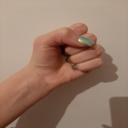Fist: (30, 22, 104, 88)
